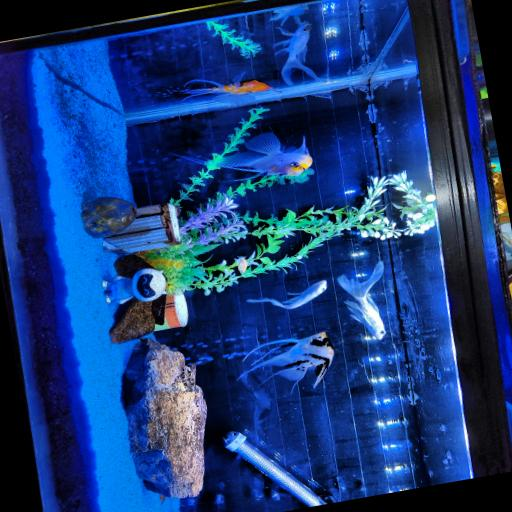Fish: (237, 332, 333, 388), (214, 133, 311, 181), (337, 261, 385, 340), (173, 73, 277, 106), (273, 22, 318, 85), (246, 280, 326, 309), (269, 5, 308, 25), (235, 257, 247, 273)
